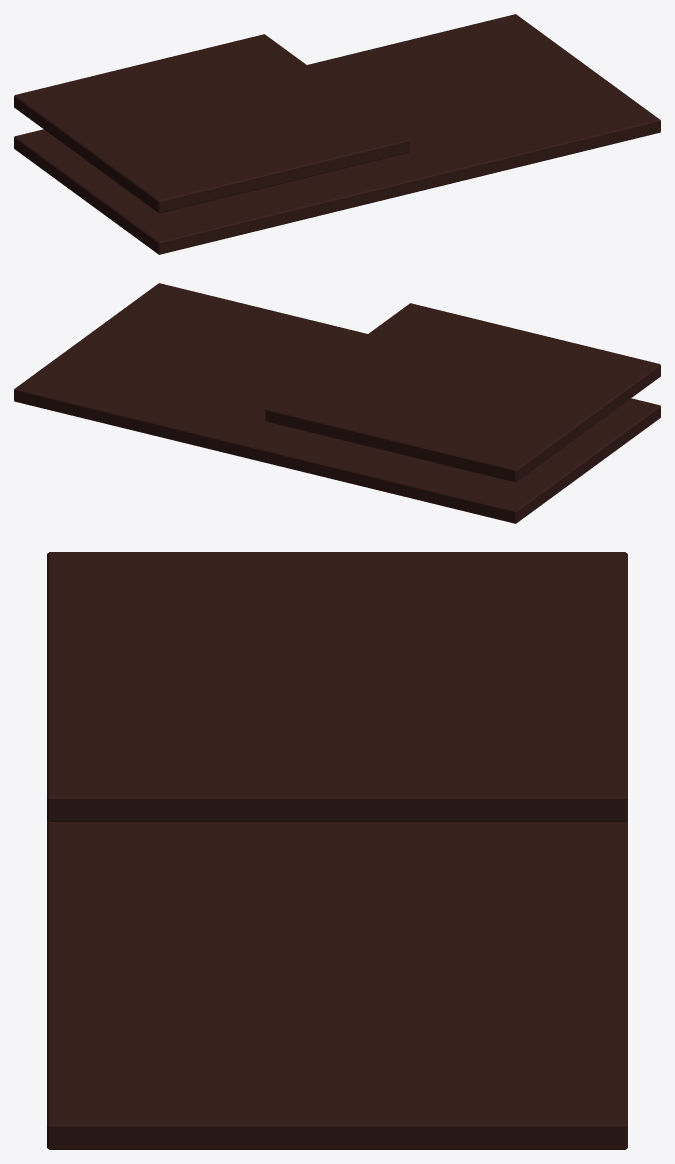
The model's file is Planes.fbx.
3 renders of one model, top to bottom at view 1: azimuth 30°, elevation 25°; view 2: azimuth 150°, elevation 25°; view 3: azimuth 270°, elevation 25°, orthographic. The views are drawn at different scales.
Parts seen in each view (by area): view 1: Plane2x1, Plane1x1; view 2: Plane2x1, Plane1x1; view 3: Plane2x1, Plane1x1.
Boxes of the visible parts, box(x1,y1,x2,y2) form: Plane2x1: box(14, 14, 660, 254); Plane1x1: box(14, 34, 409, 213); Plane2x1: box(14, 283, 660, 523); Plane1x1: box(265, 303, 660, 482); Plane2x1: box(47, 820, 627, 1149); Plane1x1: box(47, 552, 627, 821).
Size of the model in its own units: 200 by 20.66 by 100.
